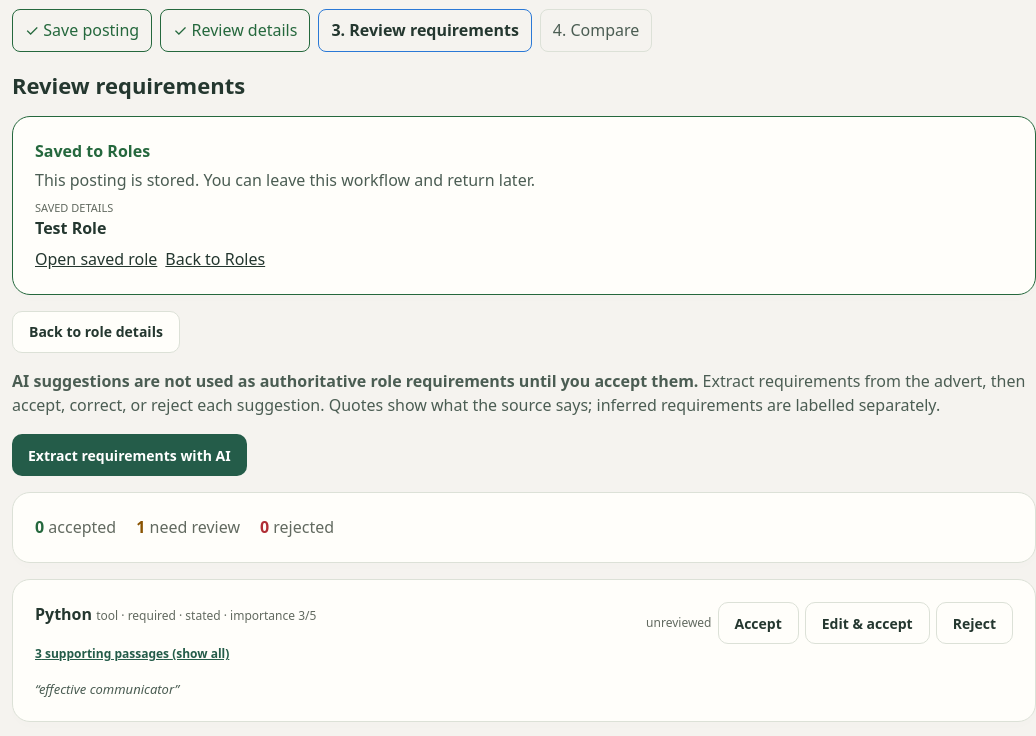
Scenario: requirement evidence › renders one requirement card with all supporting passages, collapsed by default
Expected: the text "Python" is shown once, [35, 603, 92, 625]
Expected: the text "“effective communicator”" is shown, [35, 680, 179, 698]
Click the button "3 supporting passages (show all)": click(132, 654) [35, 633, 229, 675]
(page scrolled)
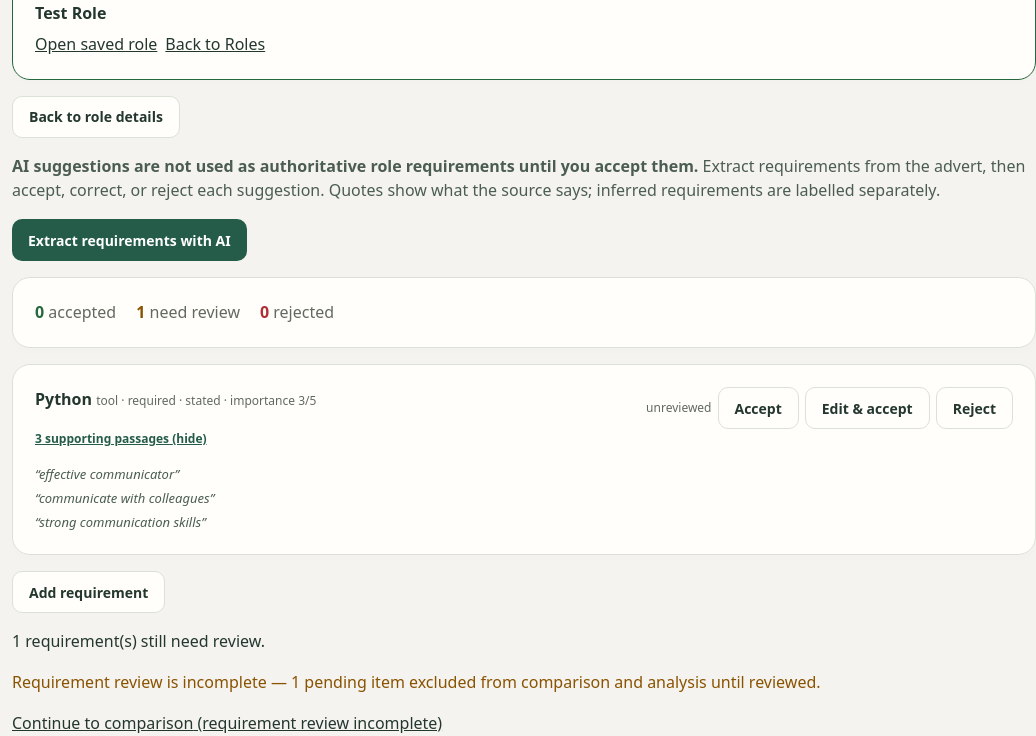
Expected: the text "“communicate with colleagues”" is shown, [35, 489, 214, 507]
Expected: the text "“strong communication skills”" is shown, [35, 513, 206, 531]
